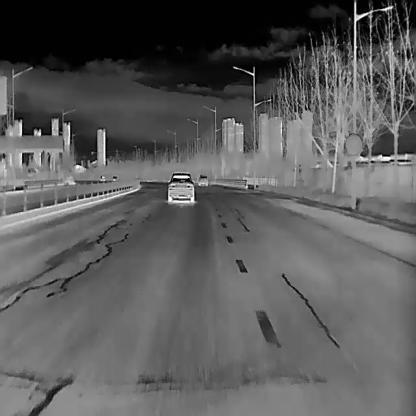car: (166, 170, 193, 202), (198, 173, 208, 186), (99, 175, 105, 181), (111, 175, 117, 180)
sign: (341, 132, 370, 162)
